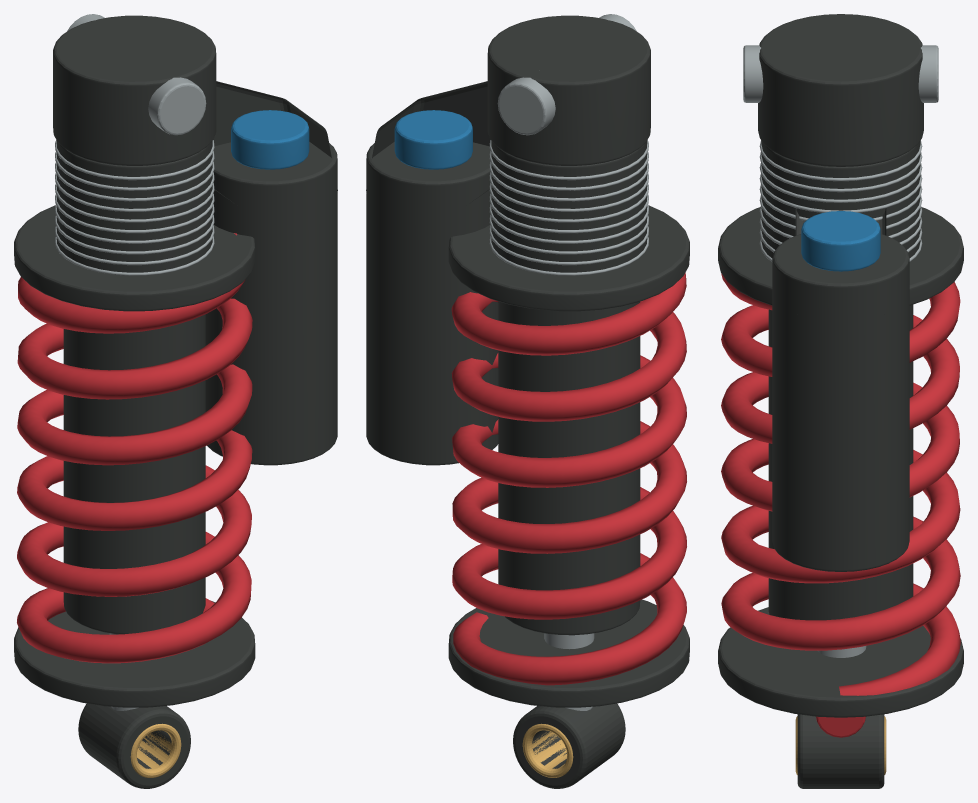
File: rockshox-vivid-coil-ultimate-d1--3c8f3ba5.glb
3 views of the same model, side by side, from view 1: azimuth 30°, elevation 25°; view 2: azimuth 150°, elevation 25°; view 3: azimuth 270°, elevation 25° (orthographic).
Parts seen in each view (by area): view 1: rockshox-vivid-coil-ultimate-d1--3c8f3ba5__link, rockshox-vivid-coil-ultimate-d1--3c8f3ba5__rebound, rockshox-vivid-coil-ultimate-d1--3c8f3ba5__bolts, rockshox-vivid-coil-ultimate-d1--3c8f3ba5__adjuster, rockshox-vivid-coil-ultimate-d1--3c8f3ba5__stanchions; view 2: rockshox-vivid-coil-ultimate-d1--3c8f3ba5__link, rockshox-vivid-coil-ultimate-d1--3c8f3ba5__rebound, rockshox-vivid-coil-ultimate-d1--3c8f3ba5__bolts, rockshox-vivid-coil-ultimate-d1--3c8f3ba5__adjuster, rockshox-vivid-coil-ultimate-d1--3c8f3ba5__stanchions; view 3: rockshox-vivid-coil-ultimate-d1--3c8f3ba5__link, rockshox-vivid-coil-ultimate-d1--3c8f3ba5__rebound, rockshox-vivid-coil-ultimate-d1--3c8f3ba5__bolts, rockshox-vivid-coil-ultimate-d1--3c8f3ba5__adjuster.
Part boxes in pixels (left/top/right/bottom): rockshox-vivid-coil-ultimate-d1--3c8f3ba5__link: left=14, top=15, right=337, bottom=788; rockshox-vivid-coil-ultimate-d1--3c8f3ba5__rebound: left=17, top=233, right=252, bottom=663; rockshox-vivid-coil-ultimate-d1--3c8f3ba5__bolts: left=55, top=14, right=214, bottom=710; rockshox-vivid-coil-ultimate-d1--3c8f3ba5__adjuster: left=231, top=110, right=309, bottom=169; rockshox-vivid-coil-ultimate-d1--3c8f3ba5__stanchions: left=130, top=723, right=181, bottom=777; rockshox-vivid-coil-ultimate-d1--3c8f3ba5__link: left=366, top=15, right=689, bottom=788; rockshox-vivid-coil-ultimate-d1--3c8f3ba5__rebound: left=451, top=272, right=686, bottom=685; rockshox-vivid-coil-ultimate-d1--3c8f3ba5__bolts: left=489, top=14, right=648, bottom=710; rockshox-vivid-coil-ultimate-d1--3c8f3ba5__adjuster: left=394, top=110, right=472, bottom=169; rockshox-vivid-coil-ultimate-d1--3c8f3ba5__stanchions: left=522, top=723, right=573, bottom=777; rockshox-vivid-coil-ultimate-d1--3c8f3ba5__link: left=718, top=14, right=963, bottom=788; rockshox-vivid-coil-ultimate-d1--3c8f3ba5__rebound: left=721, top=273, right=960, bottom=737; rockshox-vivid-coil-ultimate-d1--3c8f3ba5__bolts: left=743, top=45, right=938, bottom=657; rockshox-vivid-coil-ultimate-d1--3c8f3ba5__adjuster: left=801, top=211, right=880, bottom=271.
Bounding box in the file's own units: 0.097 × 0.225 × 0.068.
